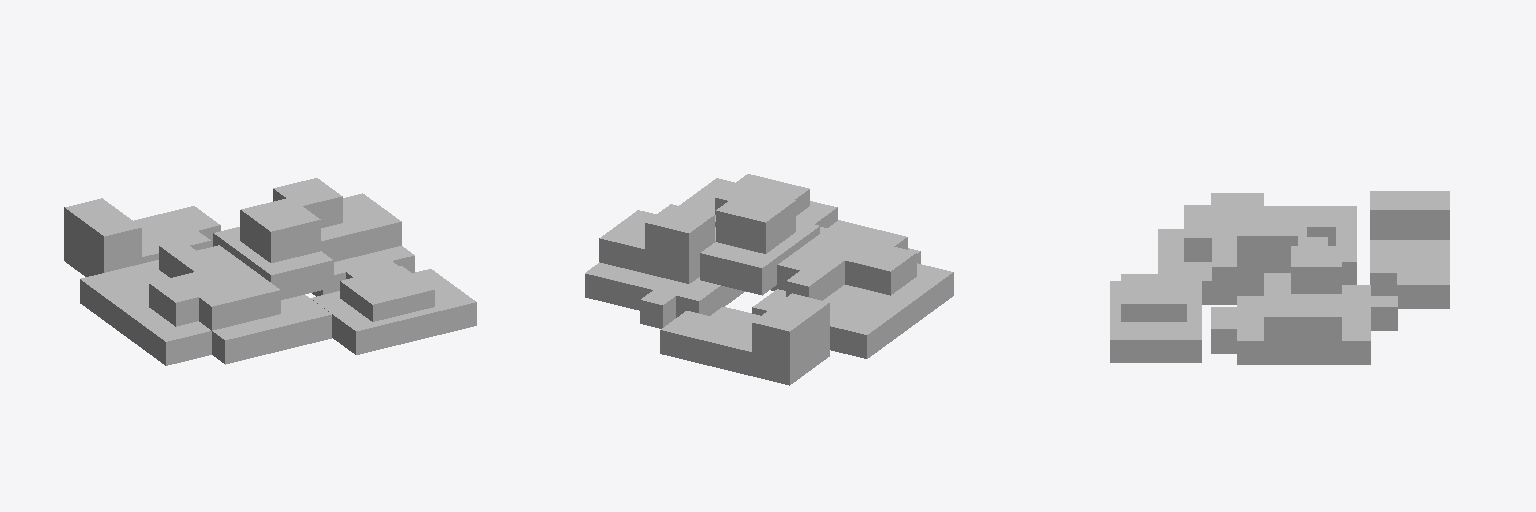
File: rock_piles_large_2.obj
The picture shows the model from 3 angles: view 1: azimuth 30°, elevation 25°; view 2: azimuth 150°, elevation 25°; view 3: azimuth 270°, elevation 25°; orthographic projection.
Visible parts, largest first — view 1: Sphere.000_Sphere.004; view 2: Sphere.000_Sphere.004; view 3: Sphere.000_Sphere.004.
Part boxes in pixels (x1,y1,x2,y2): Sphere.000_Sphere.004: (64, 178, 476, 365); Sphere.000_Sphere.004: (585, 174, 953, 385); Sphere.000_Sphere.004: (1110, 191, 1449, 364).
Bounding box in the file's own units: 0.75 × 0.2158 × 0.7996.